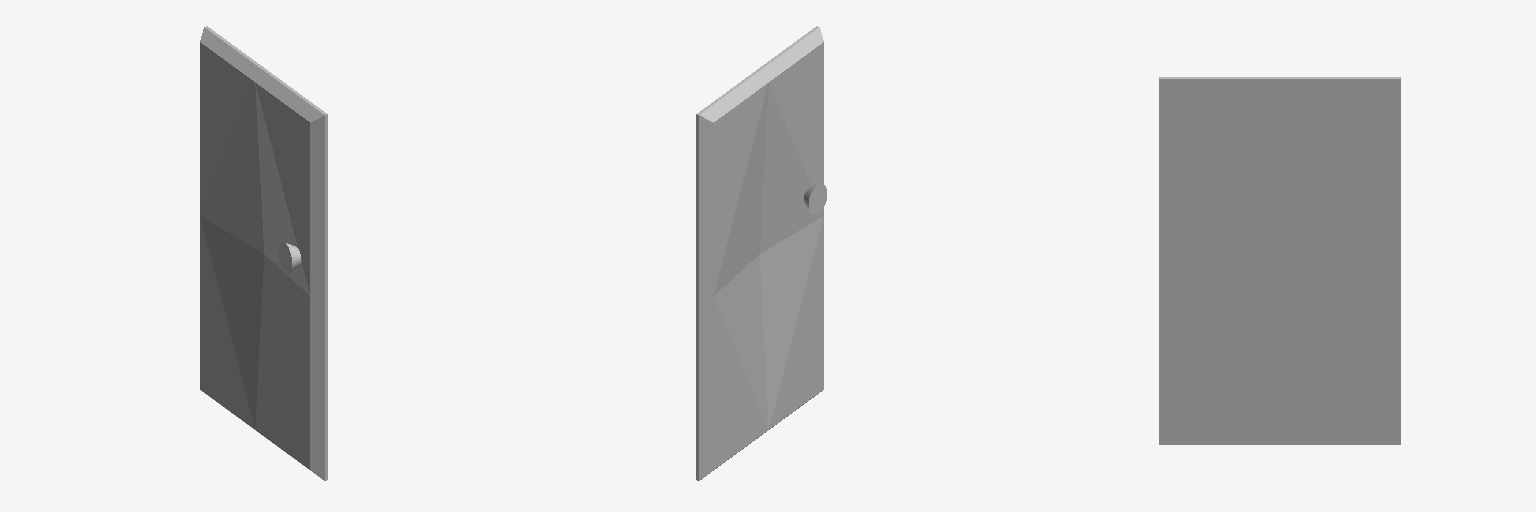
File: mesa_centro_puerta1.obj
3 views of the same model, side by side, from view 1: azimuth 30°, elevation 25°; view 2: azimuth 150°, elevation 25°; view 3: azimuth 270°, elevation 25° (orthographic).
Parts seen in each view (by area): view 1: Cubo.025_Cubo.006; view 2: Cubo.025_Cubo.006; view 3: Cubo.025_Cubo.006.
Boxes of the visible parts, box(x1,y1,x2,y2) form: Cubo.025_Cubo.006: box(200, 26, 327, 480); Cubo.025_Cubo.006: box(696, 26, 826, 480); Cubo.025_Cubo.006: box(1159, 77, 1400, 444).
Size of the model in its own units: 0.0699 by 1.05 by 0.6285.